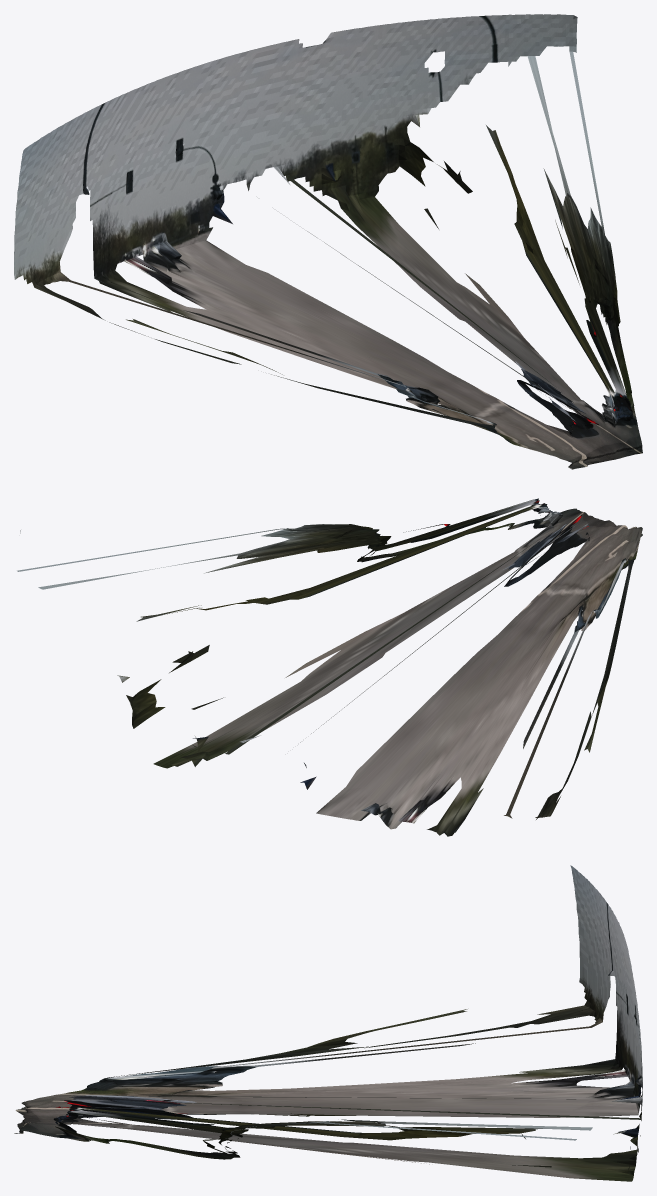
3 renders of one model, top to bottom at view 1: azimuth 30°, elevation 25°; view 2: azimuth 150°, elevation 25°; view 3: azimuth 270°, elevation 25°, orthographic. The views are drawn at different scales.
Visible parts, largest first — view 1: defaultobject; view 2: defaultobject; view 3: defaultobject.
Part boxes in pixels (x1=…): defaultobject: x1=14, y1=14, x2=642, y2=469; defaultobject: x1=17, y1=498, x2=642, y2=836; defaultobject: x1=14, y1=865, x2=642, y2=1181.
Size of the model in its own units: 40.98 by 13.16 by 44.63.
Materials: 1 (1 with a texture image).
